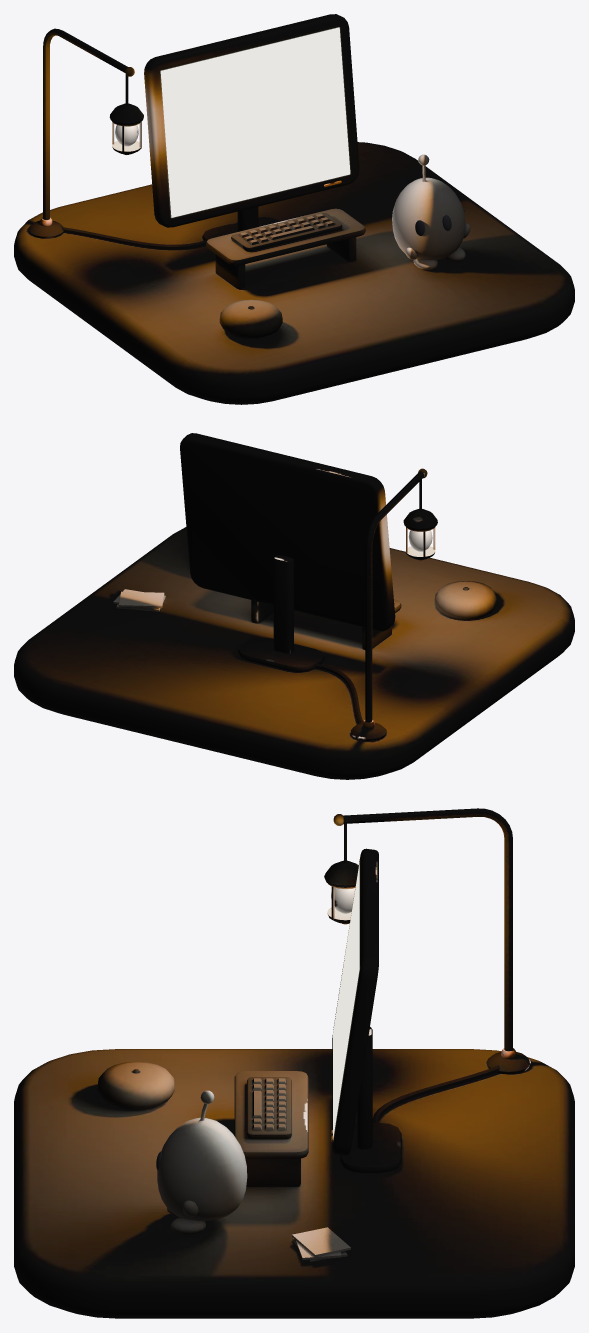
File: pod.glb
3 views of the same model, one above another, from view 1: azimuth 30°, elevation 25°; view 2: azimuth 150°, elevation 25°; view 3: azimuth 270°, elevation 25° (orthographic). The views are drawn at different scales.
Parts seen in each view (by area): view 1: Base, Screen, Agent; view 2: Base; view 3: Base, Agent, Screen.
Boxes of the visible parts, x1,y1,x2,y2 form: Base: (14, 14, 574, 404); Screen: (160, 27, 350, 217); Agent: (392, 154, 470, 269); Base: (14, 433, 574, 779); Base: (14, 808, 574, 1318); Agent: (157, 1090, 247, 1234); Screen: (333, 862, 359, 1139).
Size of the model in its own units: 1.1 by 0.722 by 1.1.
3 materials, 1 textured.
